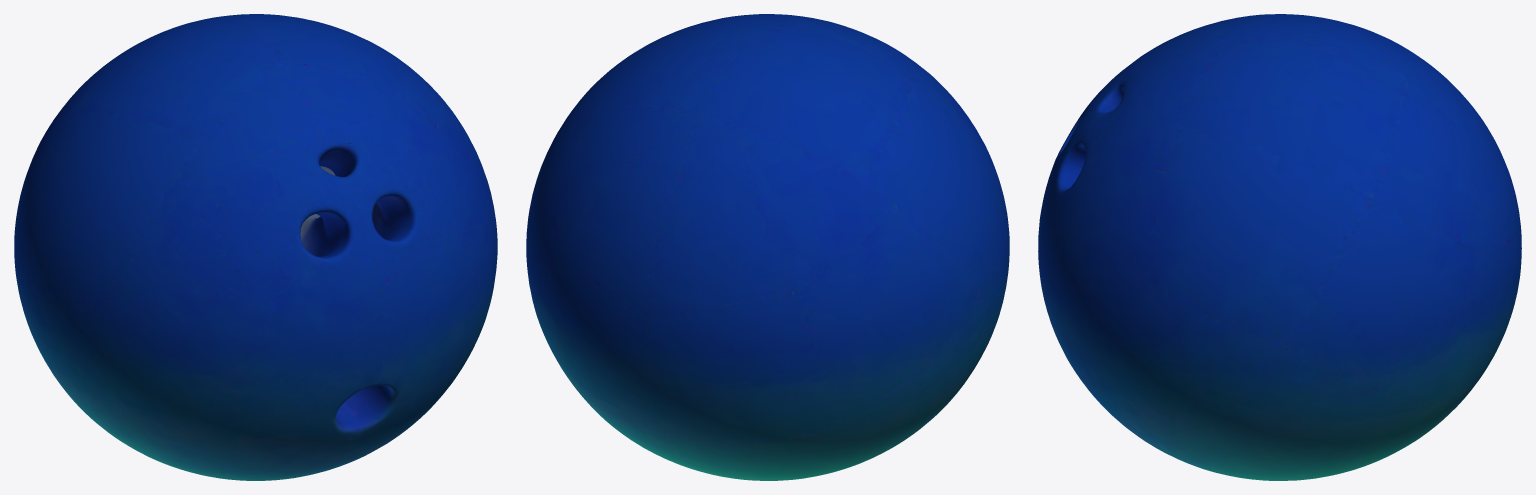
Rendered from a3D-bowl.glb.
The picture shows the model from 3 angles, left to right: view 1: azimuth 30°, elevation 25°; view 2: azimuth 150°, elevation 25°; view 3: azimuth 270°, elevation 25°; orthographic projection.
Parts seen in each view (by area): view 1: geometry_0; view 2: geometry_0; view 3: geometry_0.
Boxes of the visible parts, x1,y1,x2,y2 form: geometry_0: (14, 14, 497, 480); geometry_0: (526, 14, 1009, 480); geometry_0: (1038, 14, 1521, 480).
Bounding box in the file's own units: 1.9 × 1.82 × 1.9.
Materials: 1 (1 with a texture image).
